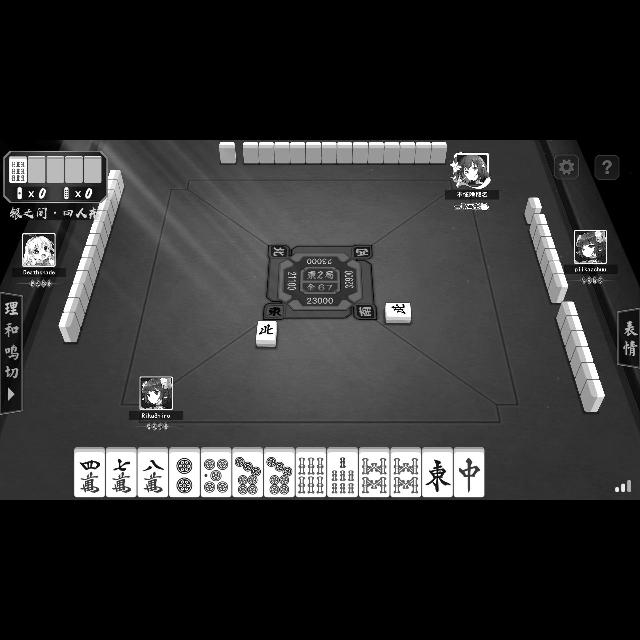2p: (170, 447, 200, 497)
4m: (74, 448, 106, 498)
5p: (200, 448, 232, 497)
6s: (296, 447, 326, 497)
7m: (105, 448, 136, 498)
7p: (232, 447, 264, 497), (265, 447, 295, 497)
7s: (328, 447, 358, 497)
8m: (138, 447, 168, 497)
8s: (391, 447, 422, 497), (359, 447, 389, 497)
9s: (9, 156, 27, 182)
chun: (454, 447, 484, 497)
pe: (256, 321, 278, 347), (384, 303, 412, 323)
tou: (423, 447, 453, 497)
